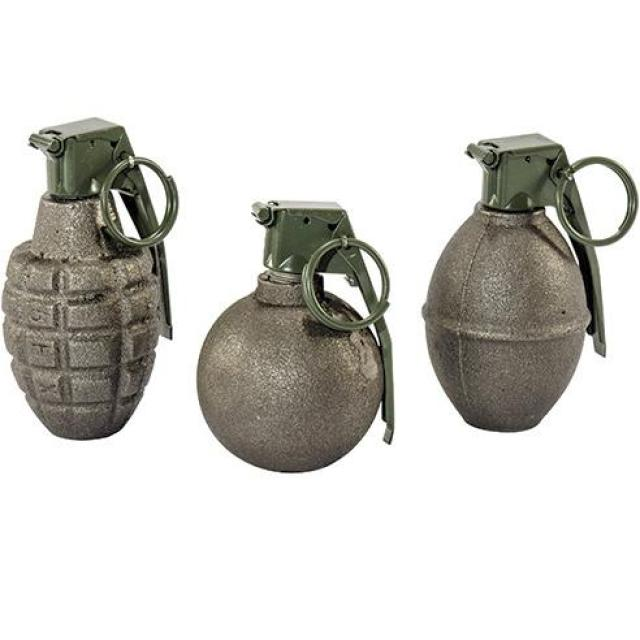grenade: (422, 138, 639, 434), (3, 119, 180, 446), (196, 204, 395, 474)
